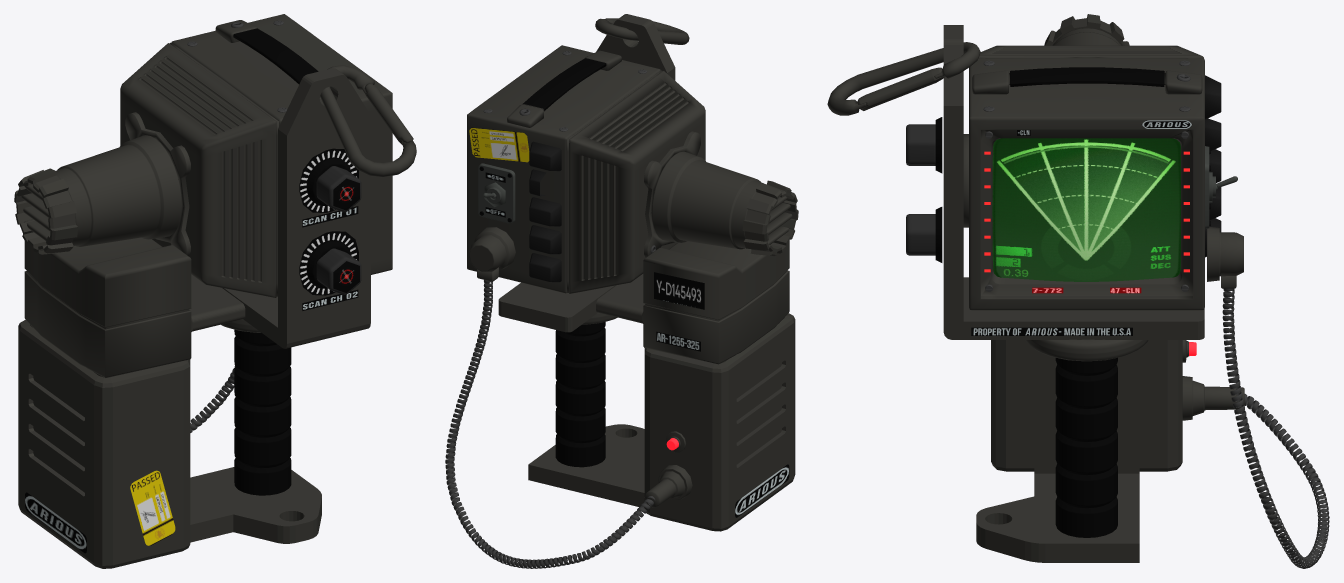
File: alienScanner.glb
3 renders of one model, left to right at view 1: azimuth 30°, elevation 25°; view 2: azimuth 150°, elevation 25°; view 3: azimuth 270°, elevation 25°, orthographic. The views are drawn at different scales.
Parts seen in each view (by area): view 1: Plane.005; view 2: Plane.005; view 3: Plane.005.
Boxes of the visible parts, left/top/right/bottom form: Plane.005: left=14, top=14, right=416, bottom=568; Plane.005: left=445, top=14, right=798, bottom=568; Plane.005: left=827, top=14, right=1329, bottom=568.
Bounding box in the file's own units: 1.73 × 2.66 × 2.26.
Materials: 20 (11 with a texture image).
